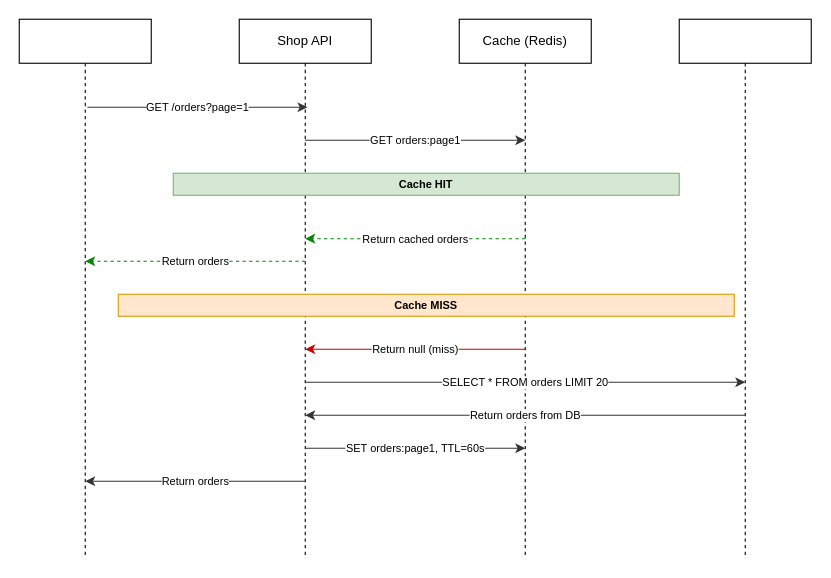
This 831x578 diagram has some shape labels left out. The box of each missing label's shape, as (x1, y1, x2, y2) in pixels:
Client: (18, 18, 151, 558)
Shop DB: (678, 18, 811, 558)
